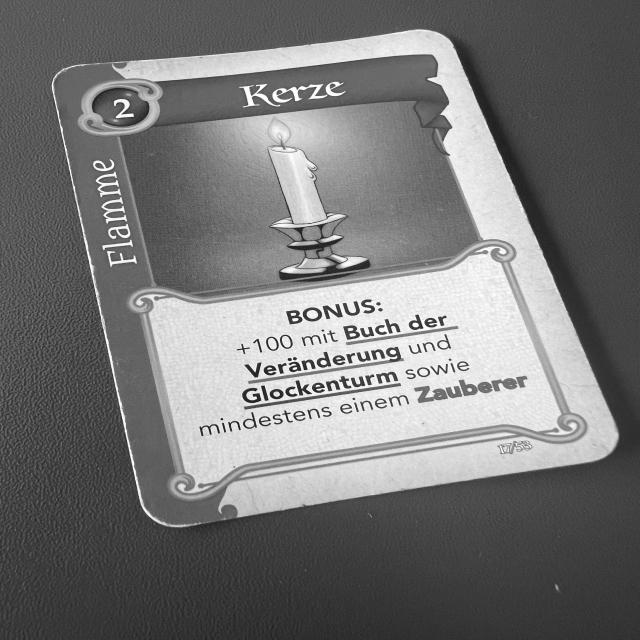Candle: (46, 25, 632, 534)
